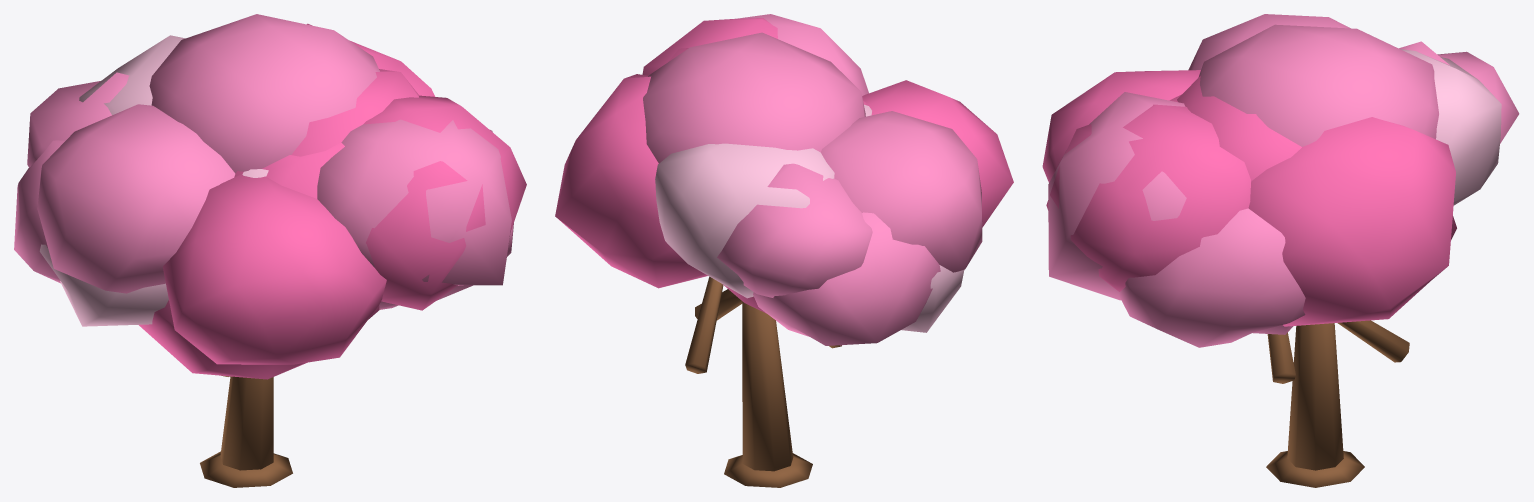
The model's file is tree_cherry_hero.glb.
3 views of the same model, side by side, from view 1: azimuth 30°, elevation 25°; view 2: azimuth 150°, elevation 25°; view 3: azimuth 270°, elevation 25° (orthographic). The views are drawn at different scales.
Visible parts, largest first — view 1: tree_cherry_hero; view 2: tree_cherry_hero; view 3: tree_cherry_hero.
Part boxes in pixels (<box>): tree_cherry_hero: <box>14,14,526,487</box>; tree_cherry_hero: <box>555,14,1013,487</box>; tree_cherry_hero: <box>1042,14,1519,487</box>.
Bounding box in the file's own units: 13.9 × 14.13 × 13.75.
